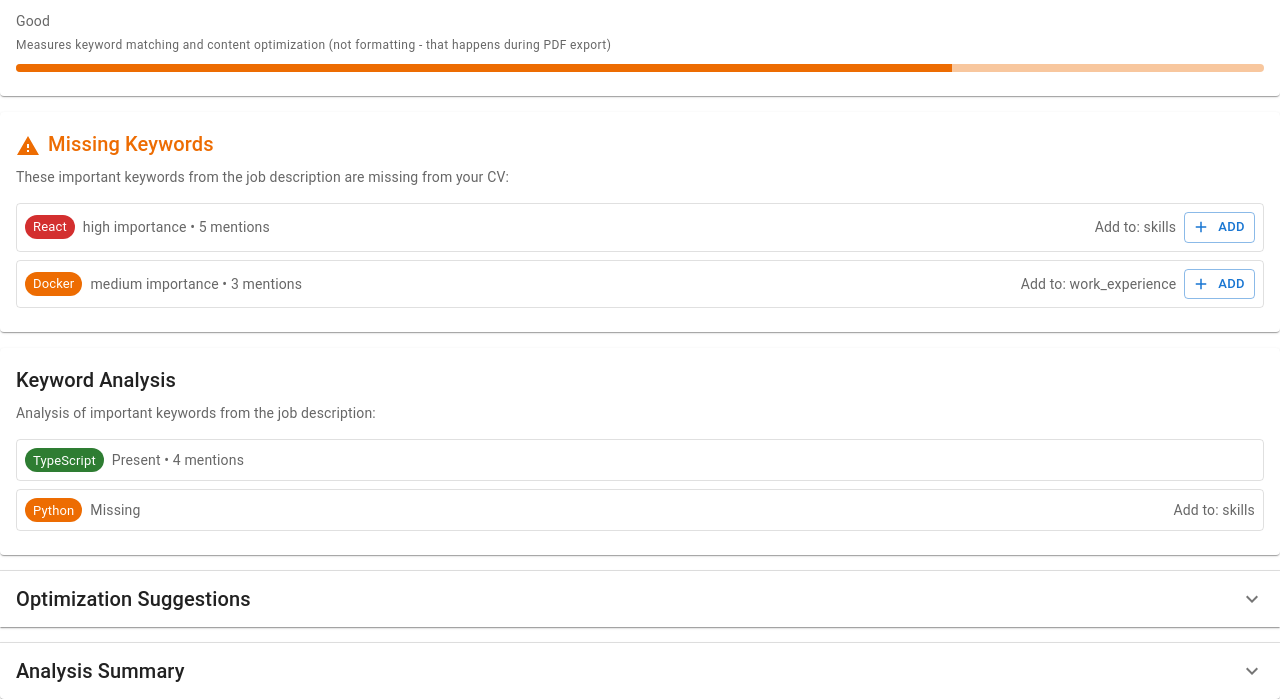
Test case: ATSOptimization › Analysis Summary › expands to show strengths
(page scrolled)
What coordinates should you click on to do the following:
click the button "Analysis Summary"
I would click on:
 (100, 671)
Its box is x1=16 y1=659 x2=1264 y2=683.
(page scrolled)
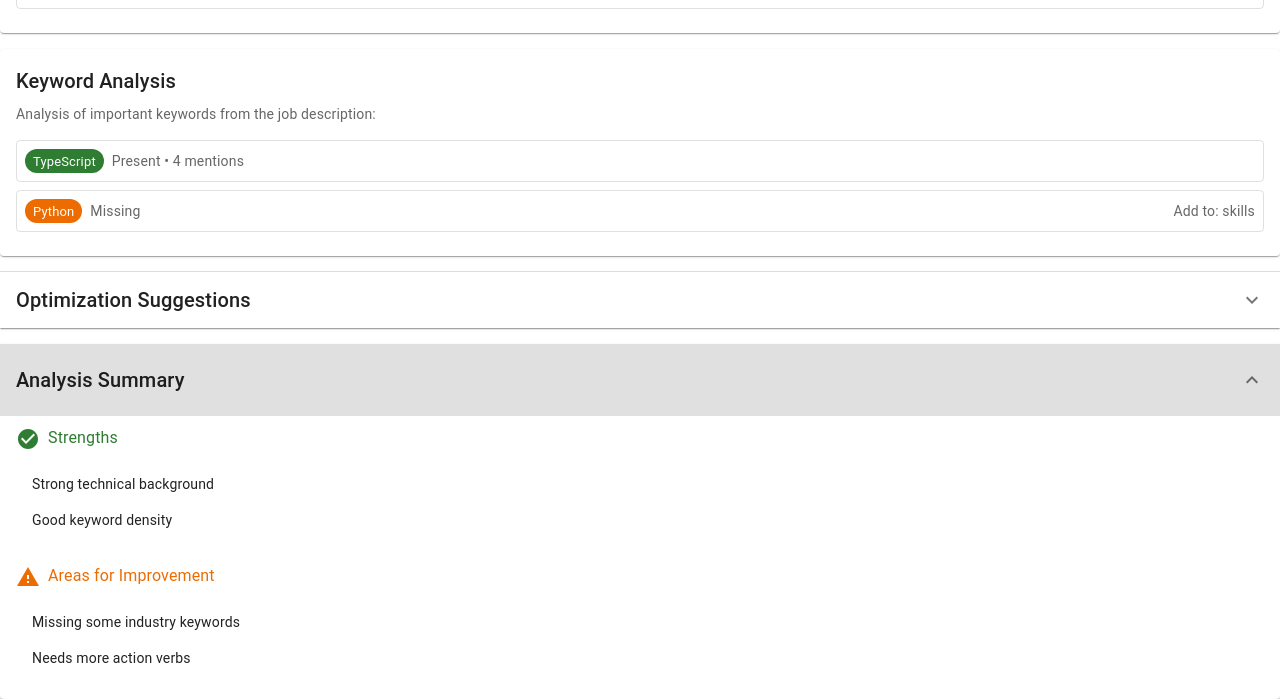
Expected: the heading "Strengths" is shown, x1=16 y1=427 x2=118 y2=451
Expected: the text "Strong technical background" is shown, x1=32 y1=476 x2=214 y2=492
Expected: the text "Good keyword density" is shown, x1=32 y1=512 x2=172 y2=528
